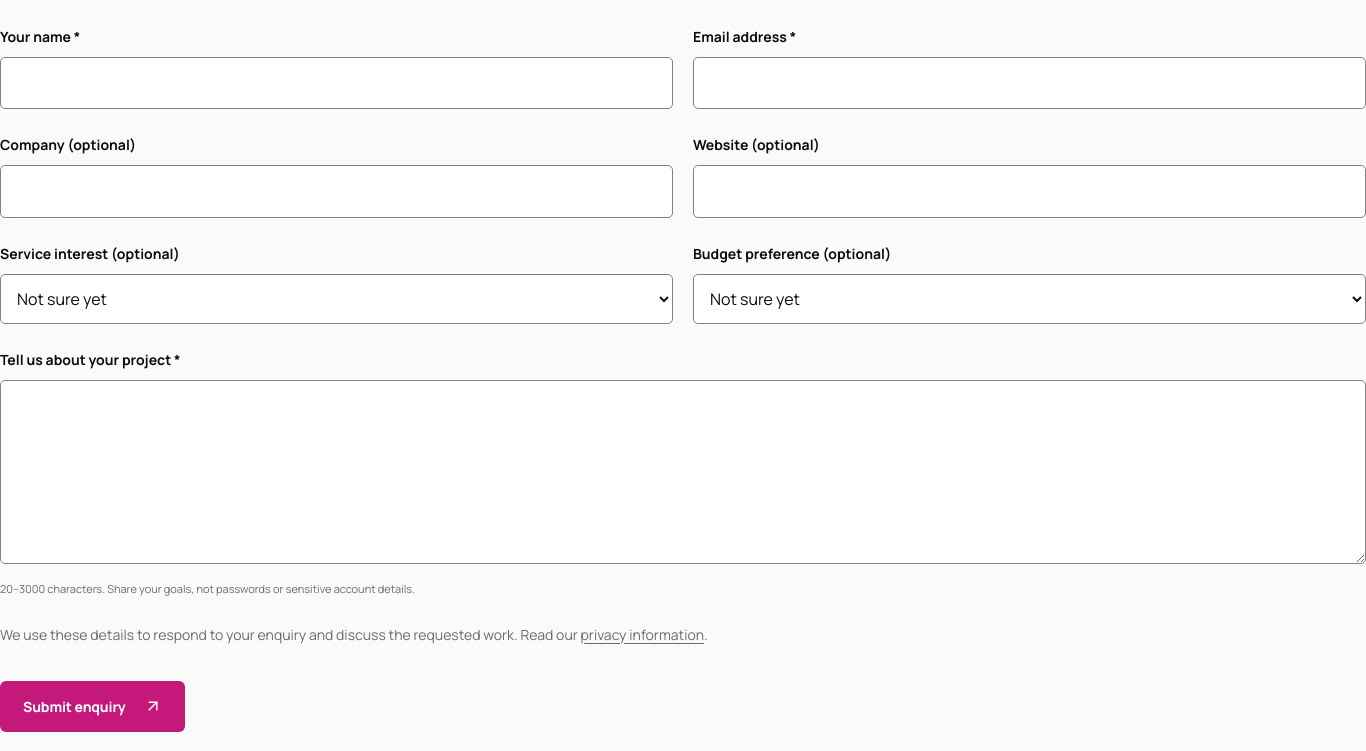
Test case: contact interaction › focuses the first invalid field and associates errors
This screenshot has width=1366, height=751.
Click the button "Submit enquiry" at (92, 706), box top-left (0, 681), bottom-right (184, 732)
(page scrolled)
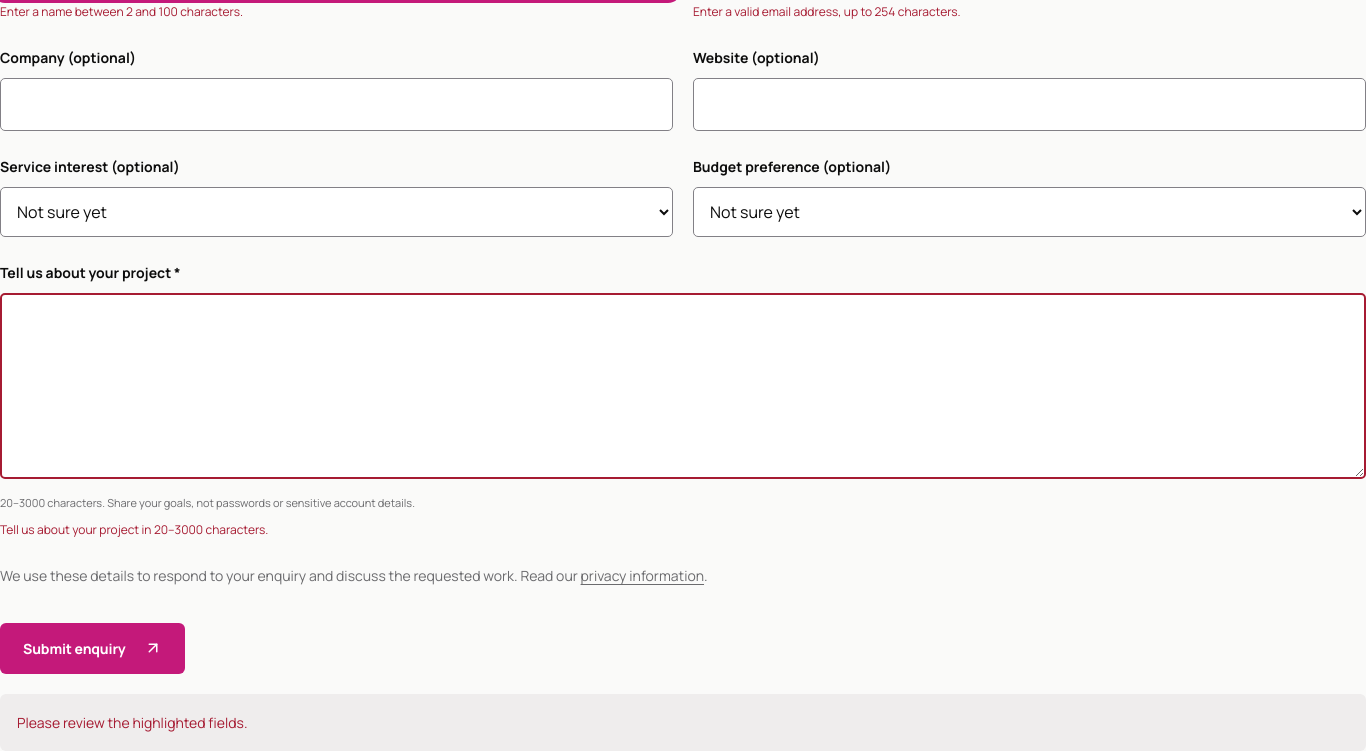
Expected: the message shows "Please review", top-left (17, 712), bottom-right (248, 732)
